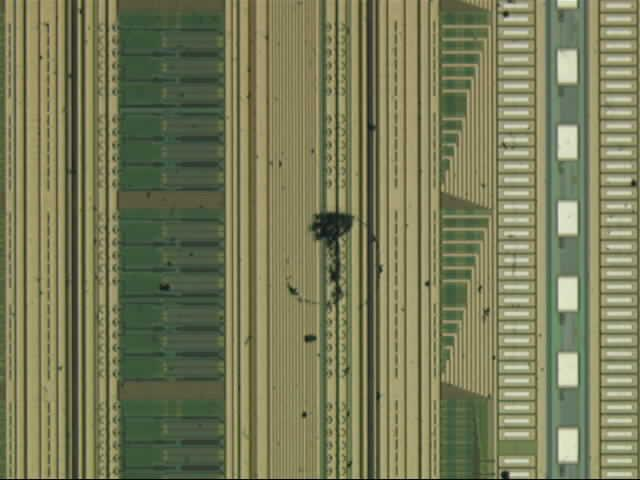PO CONTAMINATION: (139, 1, 640, 480)
